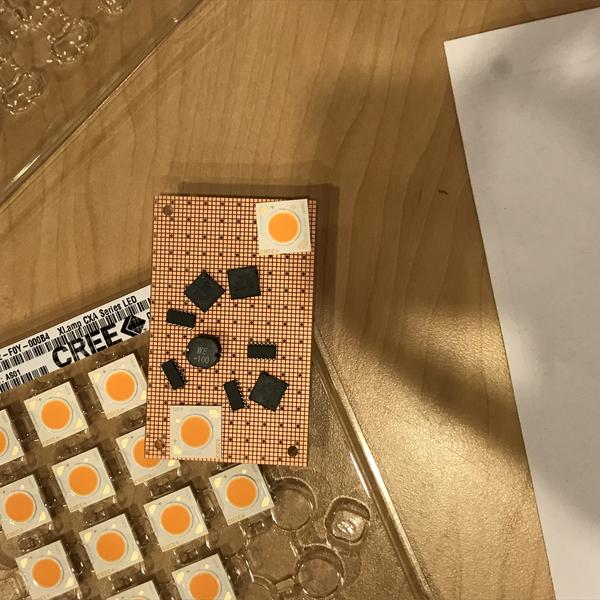board: (143, 192, 320, 470)
